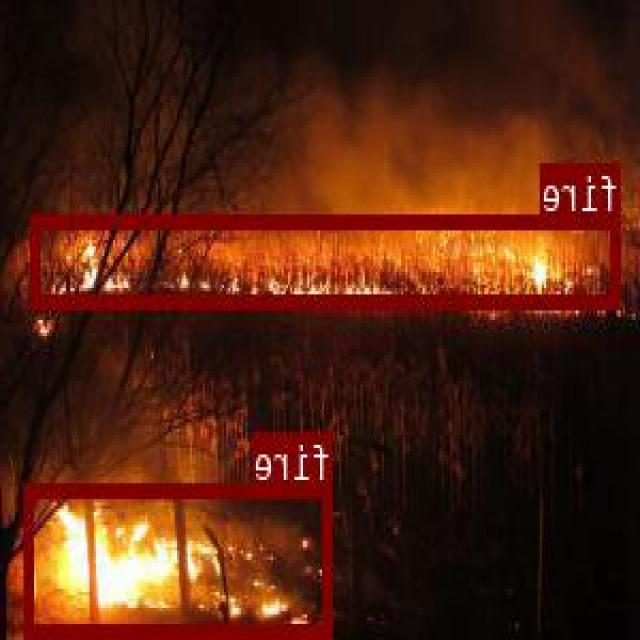fire: (32, 211, 622, 305), (28, 482, 334, 634)
